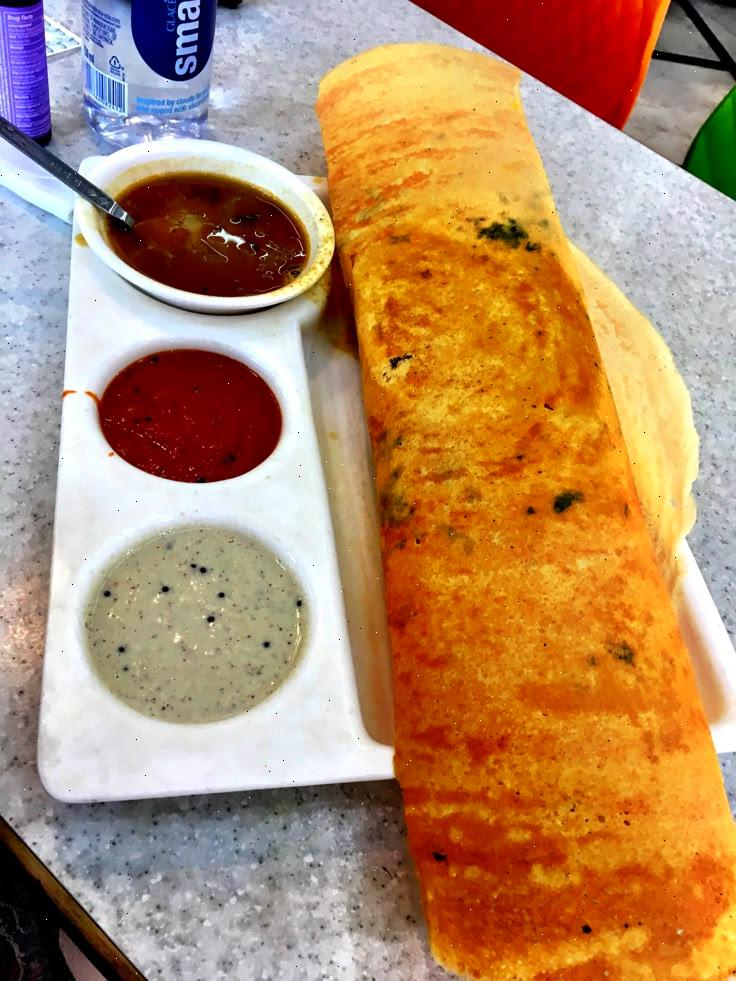dosa: (292, 21, 736, 981)
